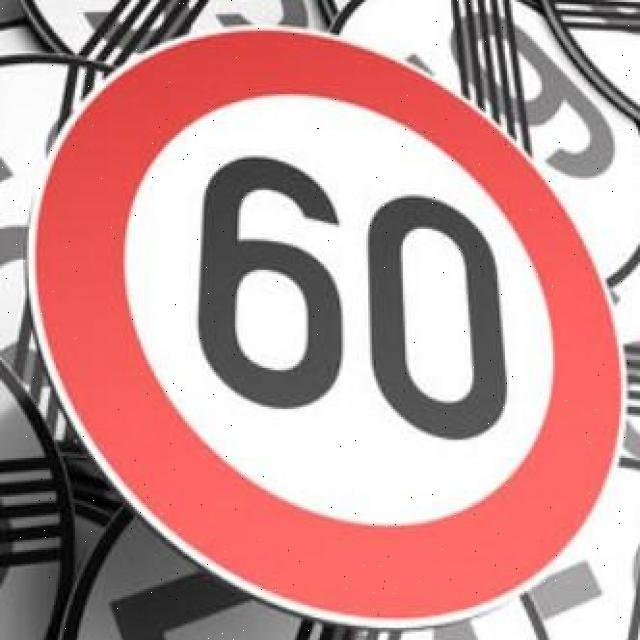speed limit 60: (25, 26, 626, 627)
